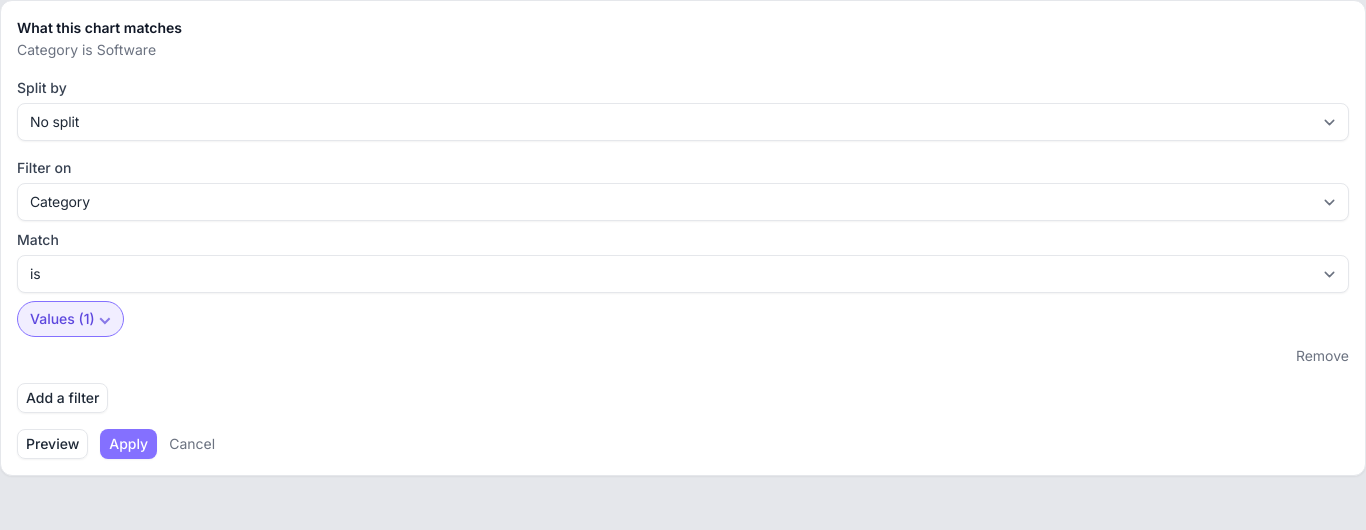
ChartRuleEditor › surfaces a preview error verbatim from the API
Click the button with test id "rule-editor-preview": (53, 444) [17, 429, 88, 459]
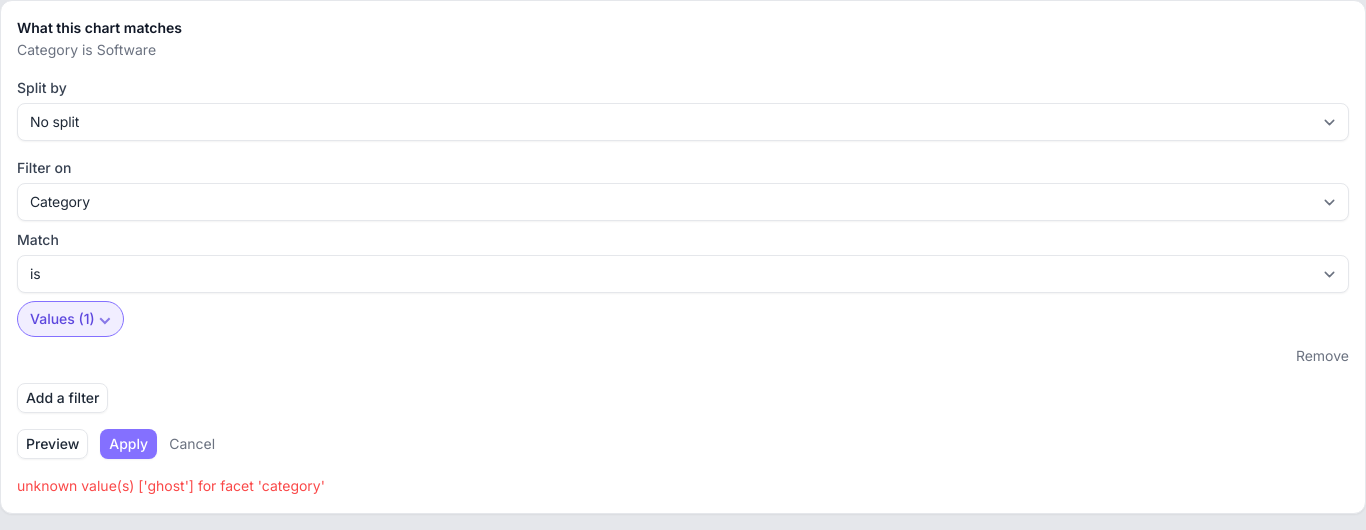
Expected: the text with test id "rule-editor-preview-error" shows "ghost", [17, 477, 325, 494]
